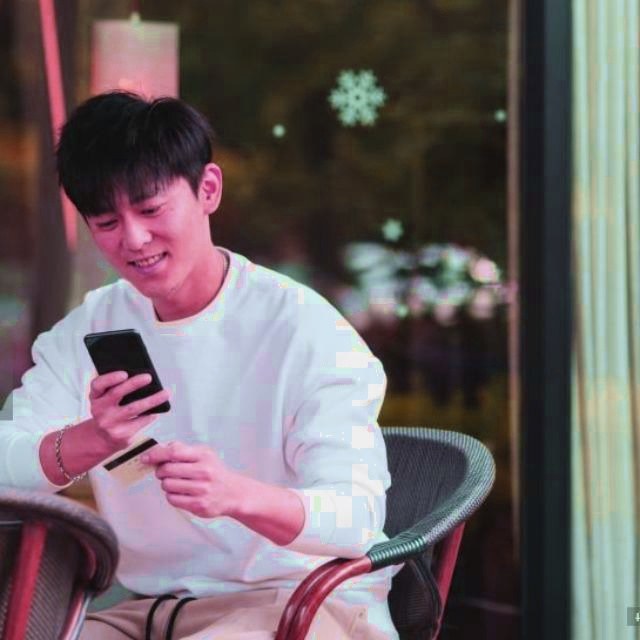Sin_Casco_Mascarrilla: (54, 88, 220, 298)
